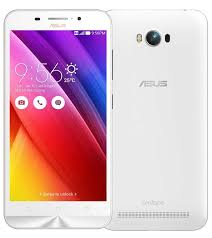asus: (2, 7, 113, 230), (106, 4, 212, 234)
